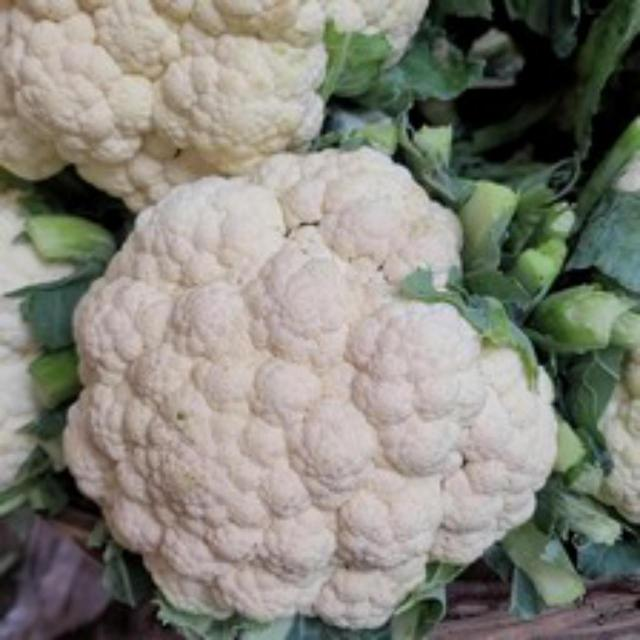cauliflower: (63, 120, 608, 637)
